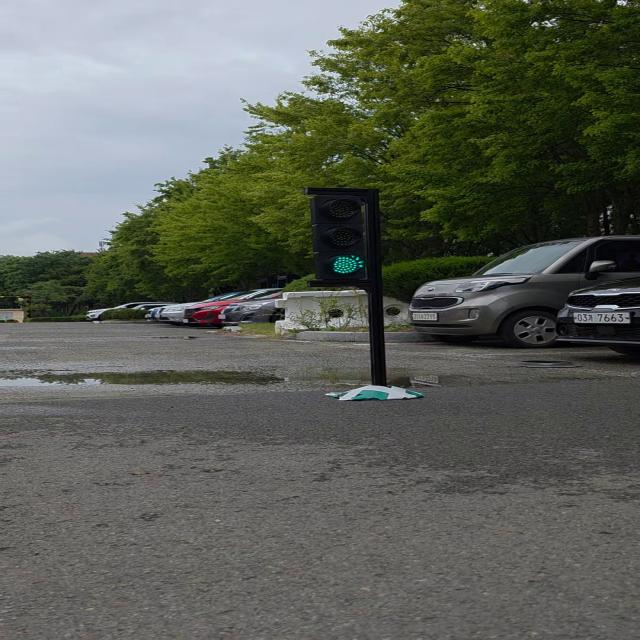green: (308, 190, 381, 288)
